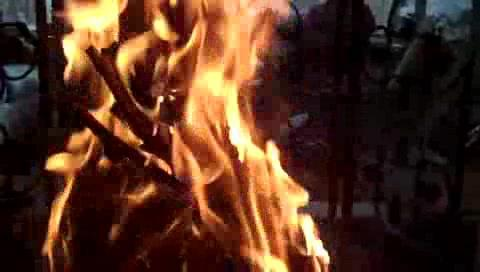fire: (58, 3, 302, 262)
